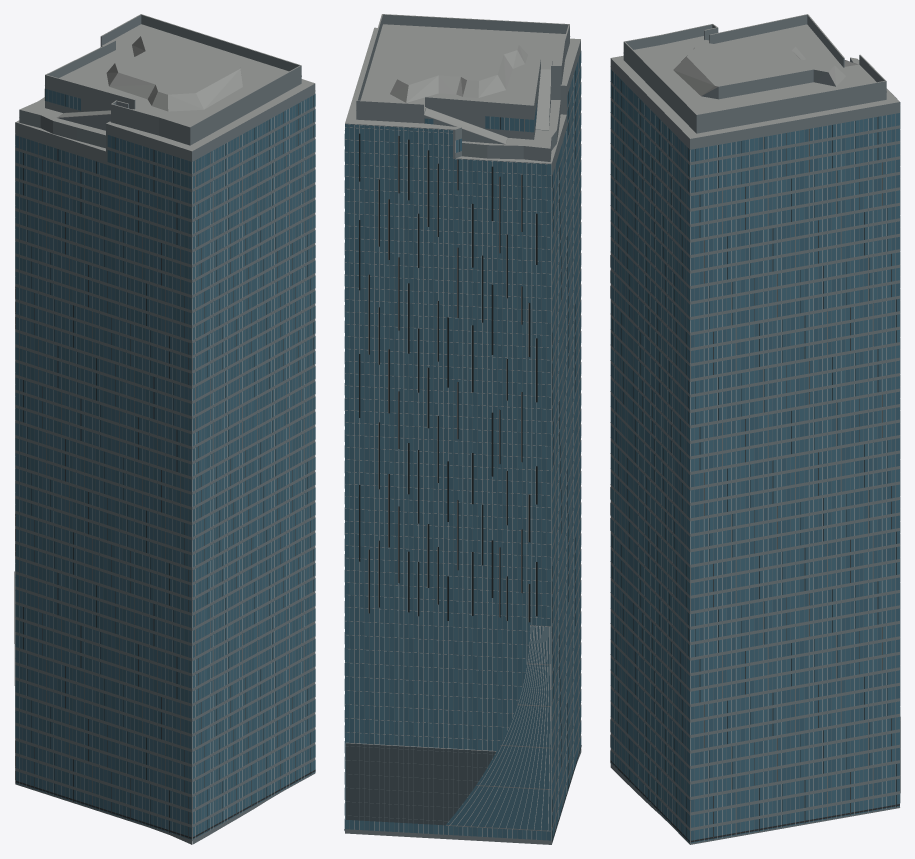
File: scramble-square.glb
3 renders of one model, left to right at view 1: azimuth 30°, elevation 25°; view 2: azimuth 150°, elevation 25°; view 3: azimuth 270°, elevation 25°, orthographic. The views are drawn at different scales.
Visible parts, largest first — view 1: scramble-square_wall, scramble-square_glass1, scramble-square_glass2, scramble-square_glass0, scramble-square_frame, scramble-square_spandrel, scramble-square_roof, scramble-square_sign_housing; view 2: scramble-square_glass1, scramble-square_wall, scramble-square_glass2, scramble-square_glass0, scramble-square_frame, scramble-square_roof, scramble-square_screen_backing, scramble-square_spandrel; view 3: scramble-square_wall, scramble-square_glass1, scramble-square_glass0, scramble-square_glass2, scramble-square_frame, scramble-square_spandrel, scramble-square_roof, scramble-square_sign_housing.
Part boxes in pixels (<box>): scramble-square_wall: <box>15,14,315,844</box>; scramble-square_glass1: <box>15,90,315,836</box>; scramble-square_glass2: <box>15,89,315,839</box>; scramble-square_glass0: <box>15,93,315,839</box>; scramble-square_frame: <box>14,47,315,839</box>; scramble-square_spandrel: <box>15,76,315,840</box>; scramble-square_roof: <box>16,14,314,151</box>; scramble-square_sign_housing: <box>15,769,315,838</box>; scramble-square_glass1: <box>344,53,581,840</box>; scramble-square_wall: <box>345,14,581,844</box>; scramble-square_glass2: <box>344,59,581,839</box>; scramble-square_glass0: <box>344,51,581,840</box>; scramble-square_frame: <box>345,75,573,840</box>; scramble-square_roof: <box>345,14,580,163</box>; scramble-square_screen_backing: <box>346,743,495,825</box>; scramble-square_spandrel: <box>344,36,581,840</box>; scramble-square_wall: <box>610,15,899,844</box>; scramble-square_glass1: <box>610,75,900,840</box>; scramble-square_glass0: <box>610,69,900,843</box>; scramble-square_glass2: <box>610,82,900,842</box>; scramble-square_frame: <box>614,60,900,843</box>; scramble-square_spandrel: <box>610,53,899,843</box>; scramble-square_roof: <box>611,14,899,138</box>; scramble-square_sign_housing: <box>610,760,899,842</box>.
Bounding box in the file's own units: 79.81 × 230 × 82.81.
